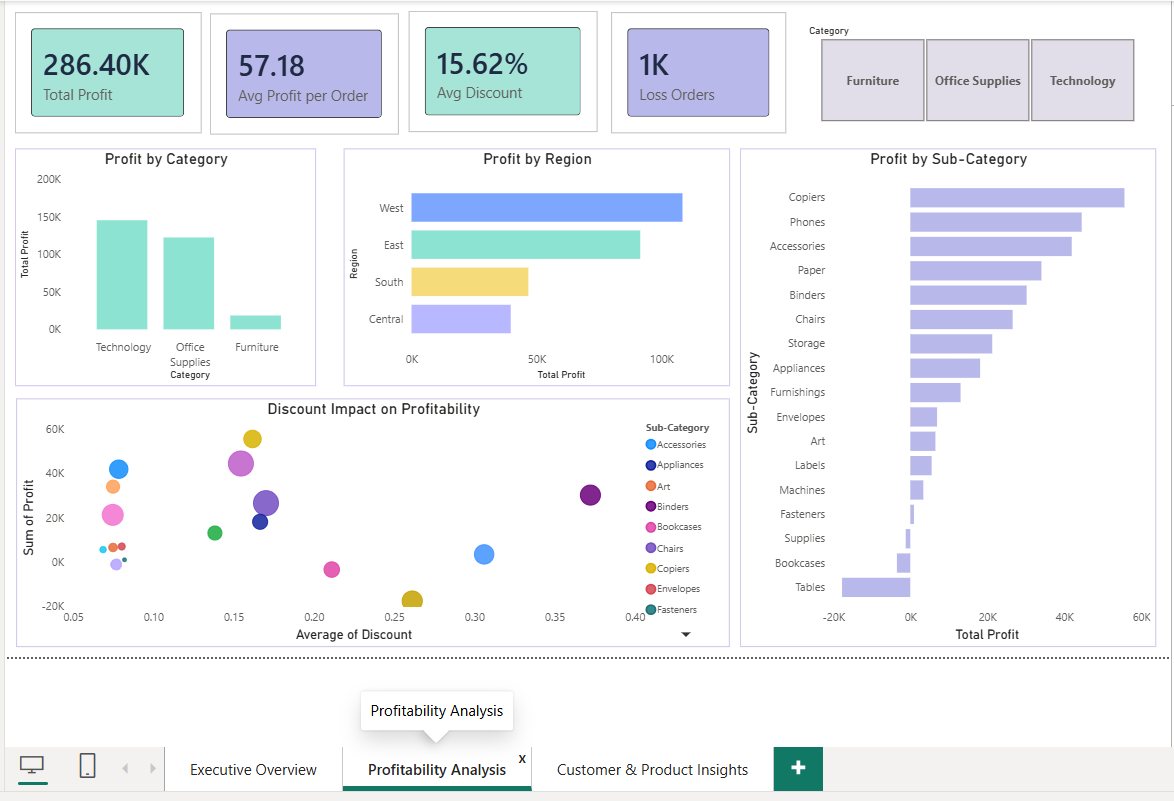

The page's visual inventory and layout, read from the dashboard file:
{"tool":"powerbi","page":{"name":"Profitability Analysis","canvas":[1280,720],"ordinal":1},"visuals":[{"type":"cardVisual","fields":{"Data":["Calculations.Total Profit"]},"box":[11,12.3,204.5,133.1],"z":0},{"type":"cardVisual","fields":{"Data":["Calculations.Average Profit per Order"]},"box":[225,13.7,207.2,133.1],"z":1000},{"type":"cardVisual","fields":{"Data":["Calculations.Avg Discount"]},"box":[443.2,11,207.2,133.1],"z":2000},{"type":"cardVisual","fields":{"Data":["Calculations.Loss Orders"]},"box":[665.5,12.3,192.1,133.1],"z":3000},{"type":"columnChart","title":"Profit by Category","fields":{"Category":["Sample - Superstore.Category"],"Y":["Calculations.Total Profit"]},"box":[11,161.9,330.7,260.7],"z":4000},{"type":"clusteredBarChart","title":"Profit by Sub-Category","fields":{"Y":["Calculations.Total Profit"],"Category":["Sample - Superstore.Sub-Category"]},"box":[806.9,161.9,456.9,547.5],"z":5000},{"type":"clusteredBarChart","title":"Profit by Region","fields":{"Y":["Calculations.Total Profit"],"Category":["Sample - Superstore.Region"]},"box":[371.9,161.9,424,260.7],"z":6000},{"type":"scatterChart","title":"Discount Impact on Profitability","fields":{"X":["Avg(Sample - Superstore.Discount)"],"Y":["Sum(Sample - Superstore.Profit)"],"Size":["Sum(Sample - Superstore.Sales)"],"Series":["Sample - Superstore.Sub-Category"]},"box":[12.3,436.4,783.5,273.1],"z":7000},{"type":"slicer","fields":{"Values":["Sample - Superstore.Category"]},"box":[870,20.6,393.8,118],"z":8000}]}

Visuals, with their boxes on the page's 1280x720 design canvas (x1, y1, x2, y2). These are canvas units, not pixel positions in the 1174x801 screenshot, which may show the page scaled, cropped or inside an application window:
cardVisual - Calculations.Total Profit: box=[11, 12, 216, 145]
cardVisual - Calculations.Average Profit per Order: box=[225, 14, 432, 147]
cardVisual - Calculations.Avg Discount: box=[443, 11, 650, 144]
cardVisual - Calculations.Loss Orders: box=[666, 12, 858, 145]
"Profit by Category" columnChart: box=[11, 162, 342, 423]
"Profit by Sub-Category" clusteredBarChart: box=[807, 162, 1264, 709]
"Profit by Region" clusteredBarChart: box=[372, 162, 796, 423]
"Discount Impact on Profitability" scatterChart: box=[12, 436, 796, 710]
slicer - Sample - Superstore.Category: box=[870, 21, 1264, 139]
